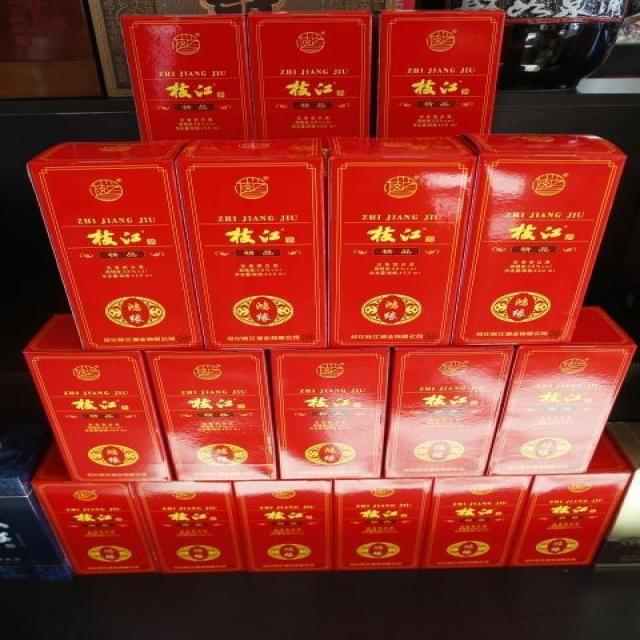box: (28, 140, 204, 349), (453, 133, 625, 343), (173, 136, 329, 350), (323, 134, 477, 347), (23, 312, 177, 482), (487, 304, 639, 475), (507, 424, 636, 566), (383, 342, 517, 478), (145, 349, 280, 482), (31, 437, 157, 575), (369, 7, 503, 136), (119, 13, 249, 142), (267, 347, 391, 481), (247, 8, 372, 139), (0, 421, 75, 580), (419, 474, 535, 568), (128, 482, 245, 573), (232, 481, 335, 572), (333, 479, 435, 570), (595, 422, 640, 564)
